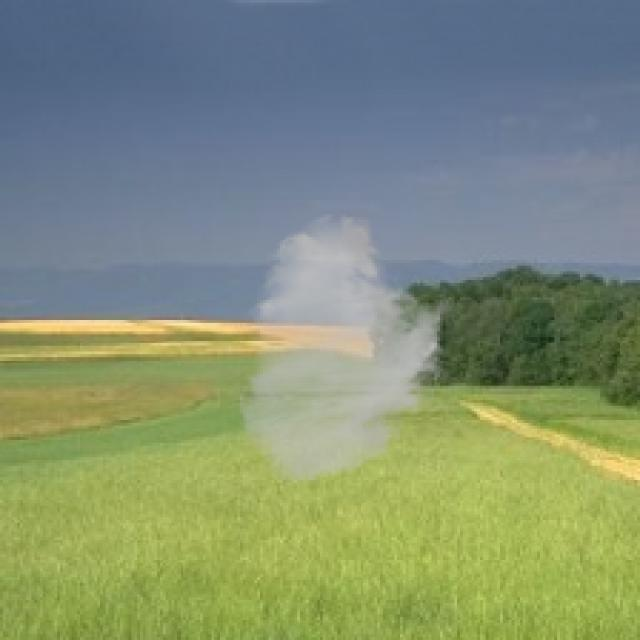smoke: (237, 212, 454, 488)
